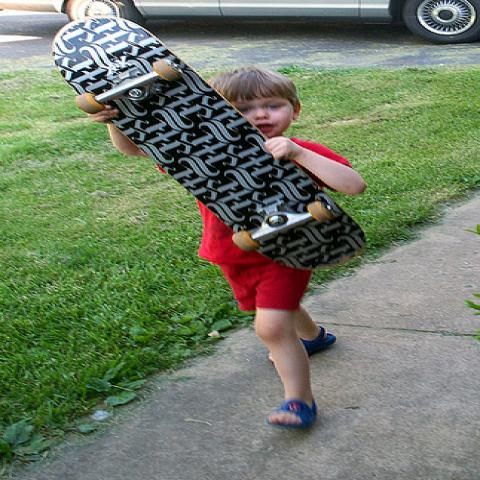car: (5, 0, 476, 40)
